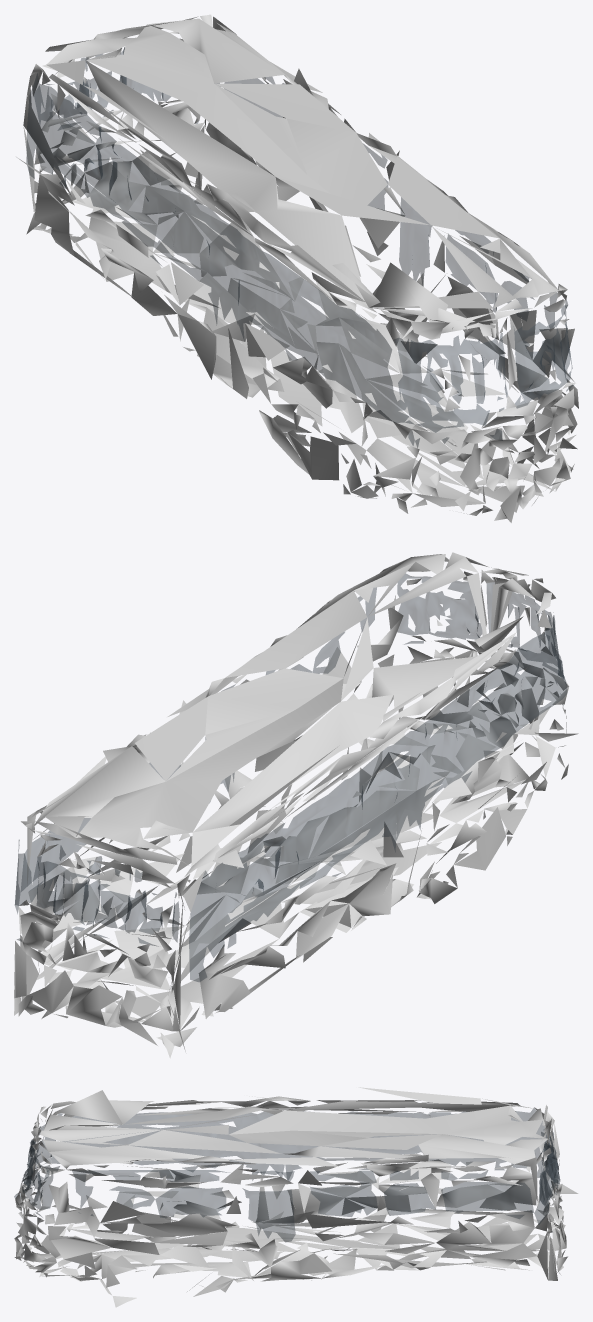
File: bus_lod.glb
3 renders of one model, top to bottom at view 1: azimuth 30°, elevation 25°; view 2: azimuth 150°, elevation 25°; view 3: azimuth 270°, elevation 25°, orthographic. The views are drawn at different scales.
Parts seen in each view (by area): view 1: bus, glass; view 2: bus, glass; view 3: bus, glass.
Boxes of the visible parts, <box> form: bus: <box>16,14,578,522</box>; glass: <box>26,47,573,447</box>; bus: <box>14,552,578,1058</box>; glass: <box>15,573,566,981</box>; bus: <box>14,1087,578,1307</box>; glass: <box>14,1107,560,1242</box>.
Bounding box in the file's own units: 3.15 × 3.32 × 9.81.
